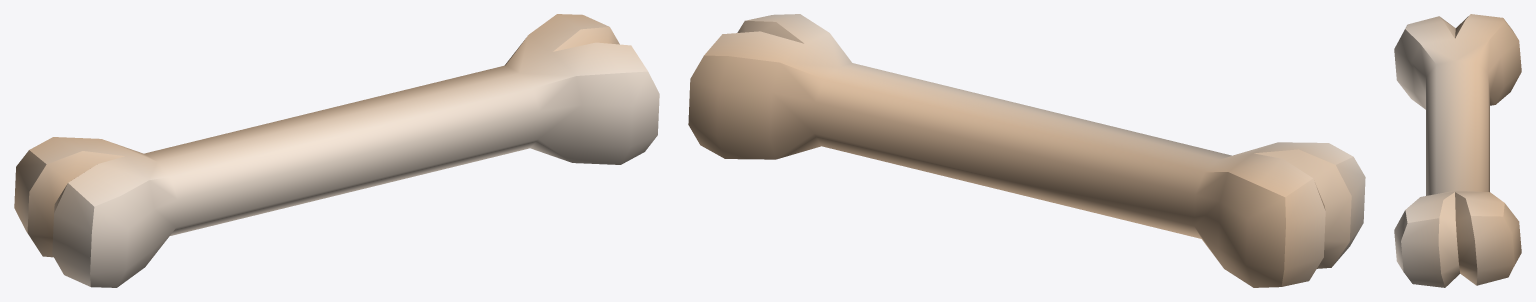
Rendered from Bone_1.glb.
3 renders of one model, left to right at view 1: azimuth 30°, elevation 25°; view 2: azimuth 150°, elevation 25°; view 3: azimuth 270°, elevation 25°, orthographic. The views are drawn at different scales.
Visible parts, largest first — view 1: bone_C; view 2: bone_C; view 3: bone_C.
Part boxes in pixels (<box>): bone_C: <box>14,14,659,287</box>; bone_C: <box>688,14,1365,287</box>; bone_C: <box>1394,14,1521,287</box>.
Size of the model in its own units: 0.5535 by 0.1019 by 0.1405.
Materials: 1 (1 with a texture image).
